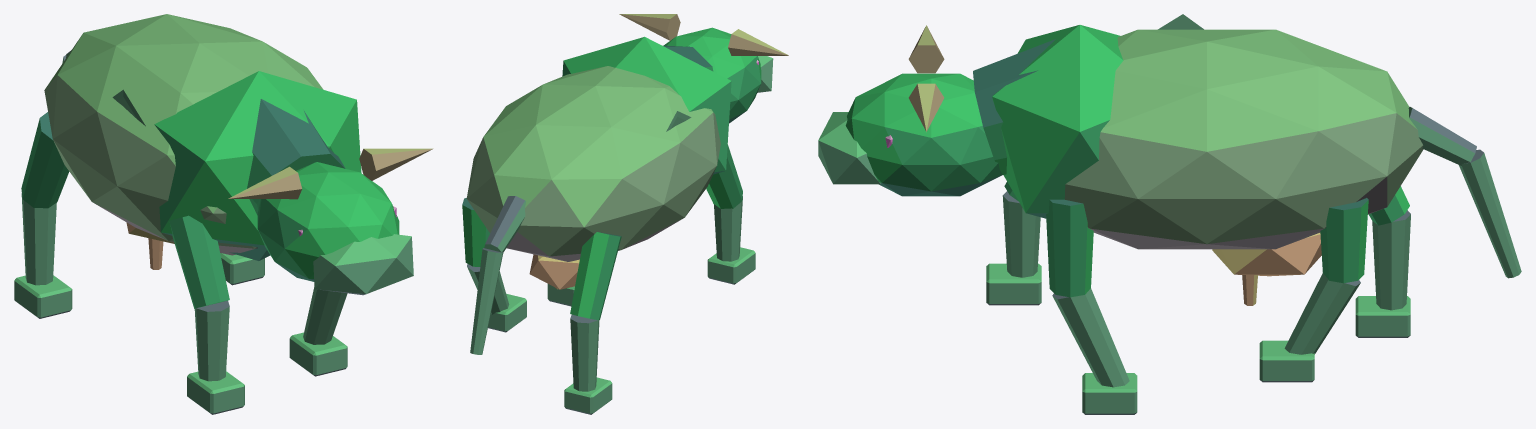
Rendered from creature_cow_passing_a_v01.glb.
3 views of the same model, side by side, from view 1: azimuth 30°, elevation 25°; view 2: azimuth 150°, elevation 25°; view 3: azimuth 270°, elevation 25° (orthographic). The views are drawn at different scales.
Parts seen in each view (by area): view 1: GEO_creature_cow_passing_a_v01; view 2: GEO_creature_cow_passing_a_v01; view 3: GEO_creature_cow_passing_a_v01.
Boxes of the visible parts, left/top/right/bottom form: GEO_creature_cow_passing_a_v01: left=14, top=14, right=433, bottom=414; GEO_creature_cow_passing_a_v01: left=462, top=14, right=788, bottom=414; GEO_creature_cow_passing_a_v01: left=818, top=14, right=1521, bottom=414.
Bounding box in the file's own units: 1.18 × 1.58 × 2.93.
